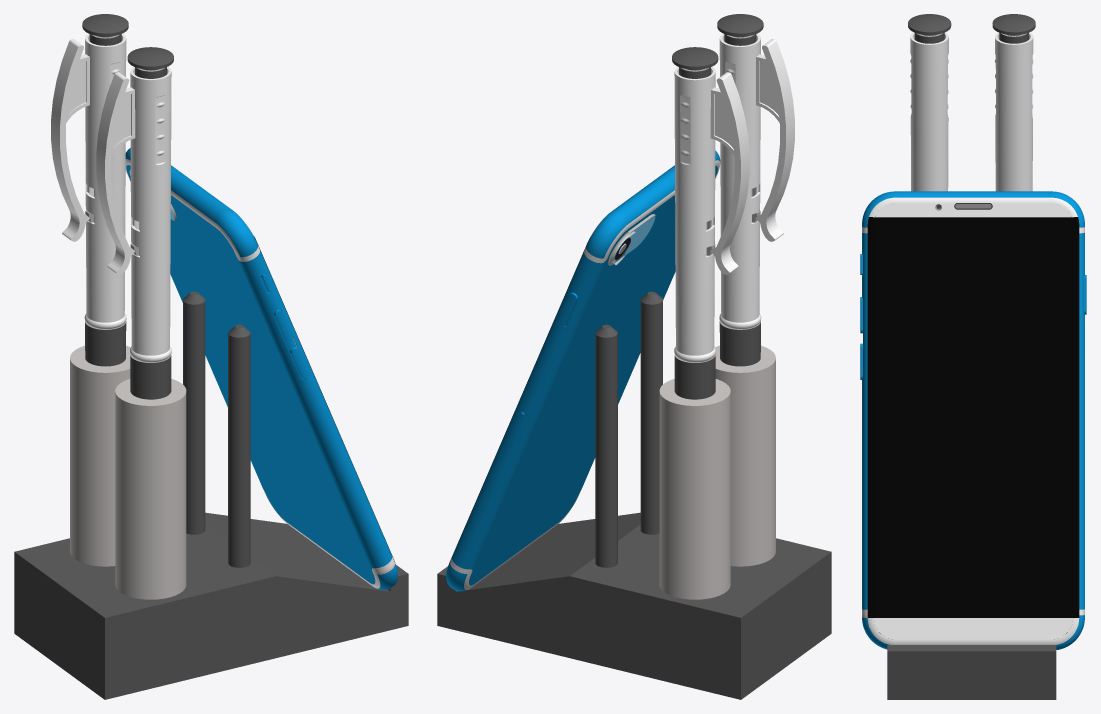
The model's file is config19.glb.
The picture shows the model from 3 angles, left to right: view 1: azimuth 30°, elevation 25°; view 2: azimuth 150°, elevation 25°; view 3: azimuth 270°, elevation 25°; orthographic projection. The views are drawn at different scales.
Parts seen in each view (by area): view 1: Socle-2, User Library-Iphone 8 v2-3, SADC-SADC Pen_SADC 001-1 (×2), Porte stylo-2, Porte stylo-1, Module téléphone-1, Module téléphone-2, SADC-SADC Pen_SADC 002-2 (×2), SADC-SADC Pen_SADC 005-1 (×2); view 2: Socle-2, User Library-Iphone 8 v2-3, SADC-SADC Pen_SADC 001-1 (×2), Porte stylo-1, Porte stylo-2, Module téléphone-2, Module téléphone-1, SADC-SADC Pen_SADC 002-2 (×2), SADC-SADC Pen_SADC 005-1 (×2); view 3: User Library-Iphone 8 v2-3, SADC-SADC Pen_SADC 001-1 (×2), Socle-2, SADC-SADC Pen_SADC 005-1 (×2).
Boxes of the visible parts, x1=… form: Socle-2: x1=14, y1=512, x2=408, y2=699; User Library-Iphone 8 v2-3: x1=125, y1=148, x2=397, y2=589; SADC-SADC Pen_SADC 001-1 (×2): x1=51, y1=33, x2=171, y2=362; Porte stylo-2: x1=115, y1=379, x2=186, y2=599; Porte stylo-1: x1=70, y1=345, x2=130, y2=566; Module téléphone-1: x1=228, y1=324, x2=250, y2=567; Module téléphone-2: x1=183, y1=291, x2=205, y2=534; SADC-SADC Pen_SADC 002-2 (×2): x1=85, y1=321, x2=171, y2=399; SADC-SADC Pen_SADC 005-1 (×2): x1=82, y1=14, x2=173, y2=255; Socle-2: x1=437, y1=512, x2=831, y2=699; User Library-Iphone 8 v2-3: x1=446, y1=150, x2=720, y2=591; SADC-SADC Pen_SADC 001-1 (×2): x1=674, y1=33, x2=794, y2=362; Porte stylo-1: x1=659, y1=379, x2=730, y2=599; Porte stylo-2: x1=715, y1=345, x2=775, y2=566; Module téléphone-2: x1=595, y1=324, x2=617, y2=567; Module téléphone-1: x1=640, y1=291, x2=662, y2=534; SADC-SADC Pen_SADC 002-2 (×2): x1=674, y1=321, x2=760, y2=399; SADC-SADC Pen_SADC 005-1 (×2): x1=672, y1=14, x2=763, y2=255; User Library-Iphone 8 v2-3: x1=860, y1=191, x2=1086, y2=649; SADC-SADC Pen_SADC 001-1 (×2): x1=910, y1=32, x2=1033, y2=191; Socle-2: x1=887, y1=645, x2=1056, y2=699; SADC-SADC Pen_SADC 005-1 (×2): x1=908, y1=14, x2=1035, y2=43.
Size of the model in its own units: 0.0984 by 0.1899 by 0.068.
41 materials, 1 textured.
